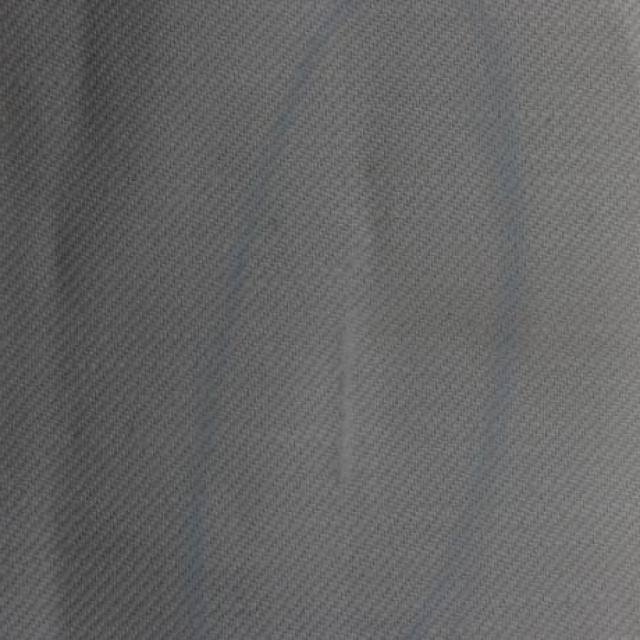Thread_other: (258, 236, 416, 574)
